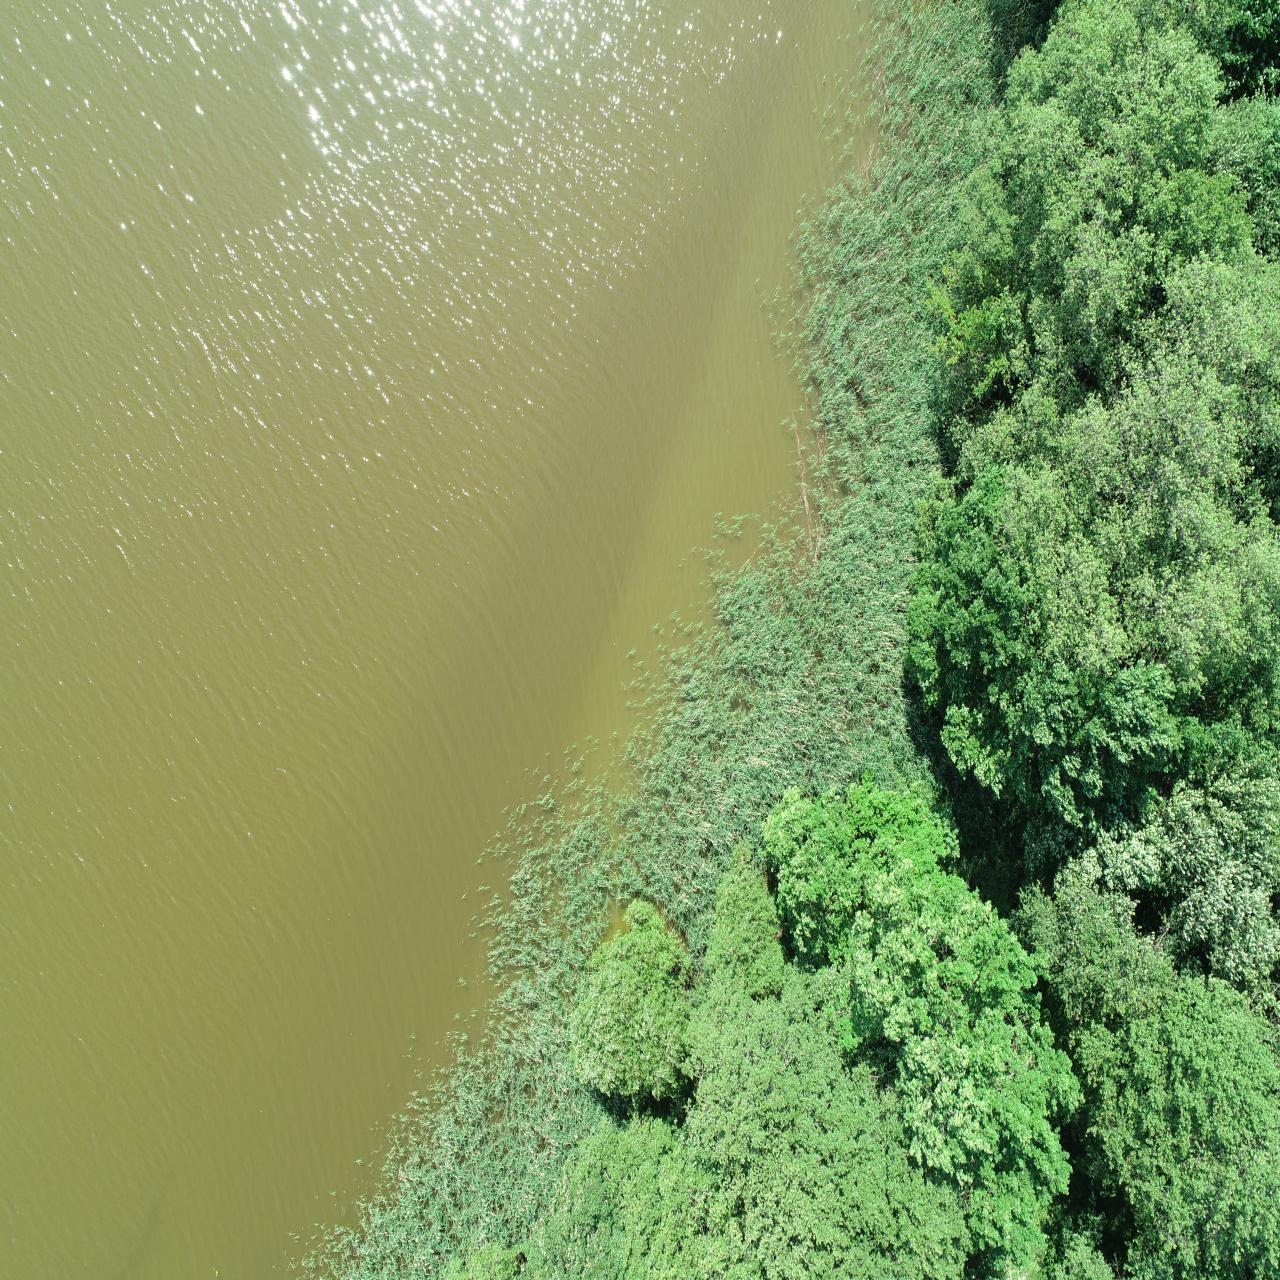cow: (52, 353, 104, 467)
